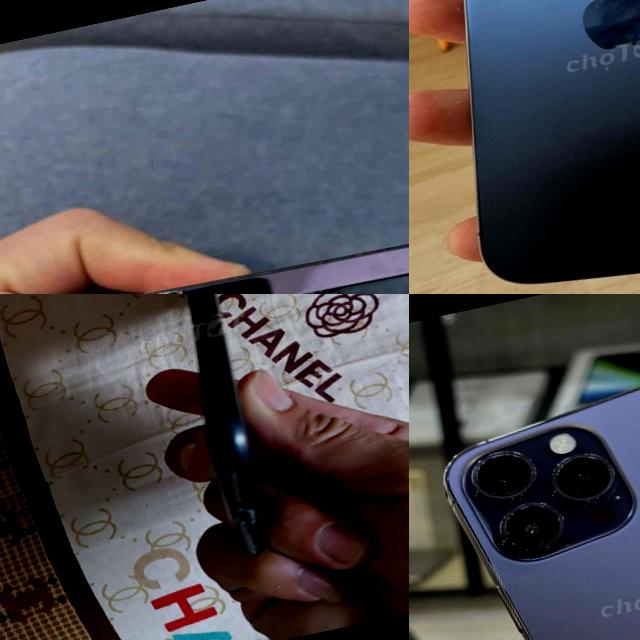scratch: (127, 274, 245, 294), (234, 517, 264, 560), (375, 241, 409, 266)
